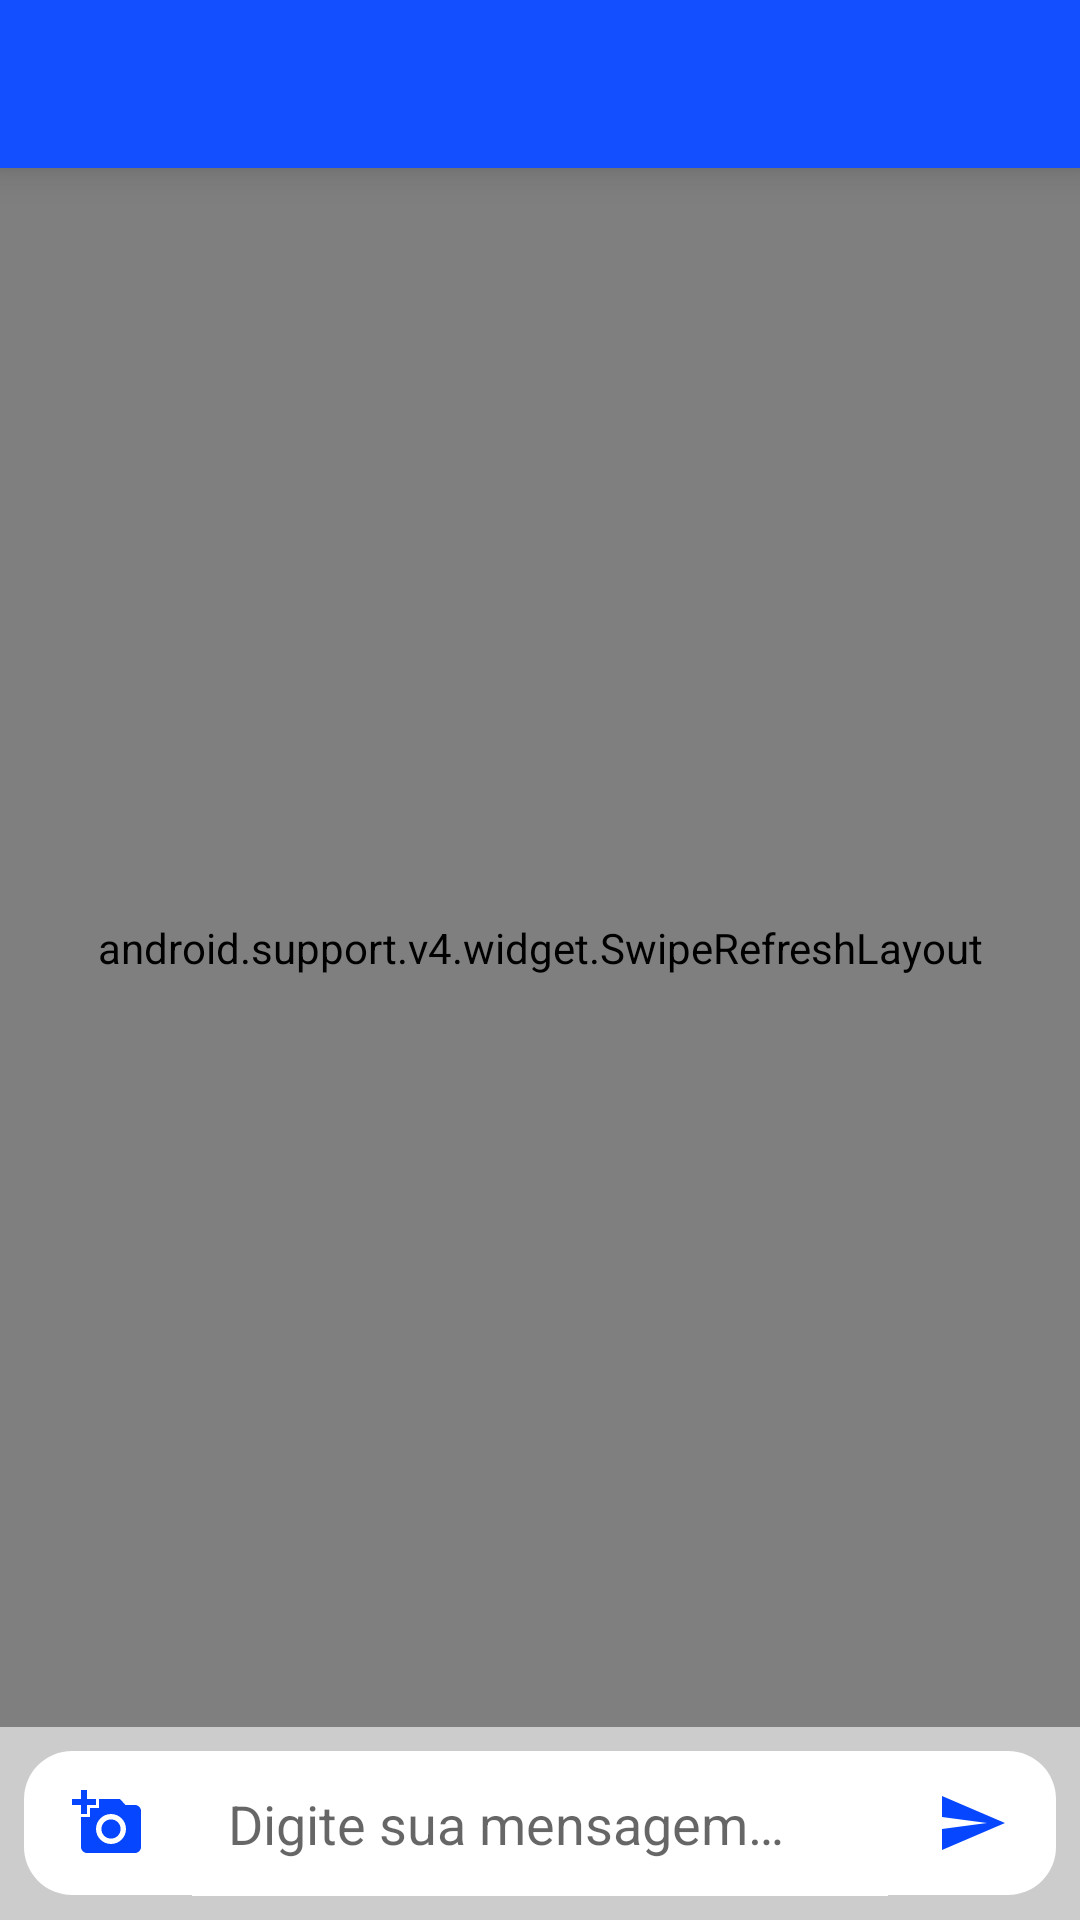

Where to tap for icons on this 1080 x 1920 app screen, as point (x, y):
Imagem botão adicionar: point (108, 1823)
Imagem botão enviar mensagem: point (972, 1823)
